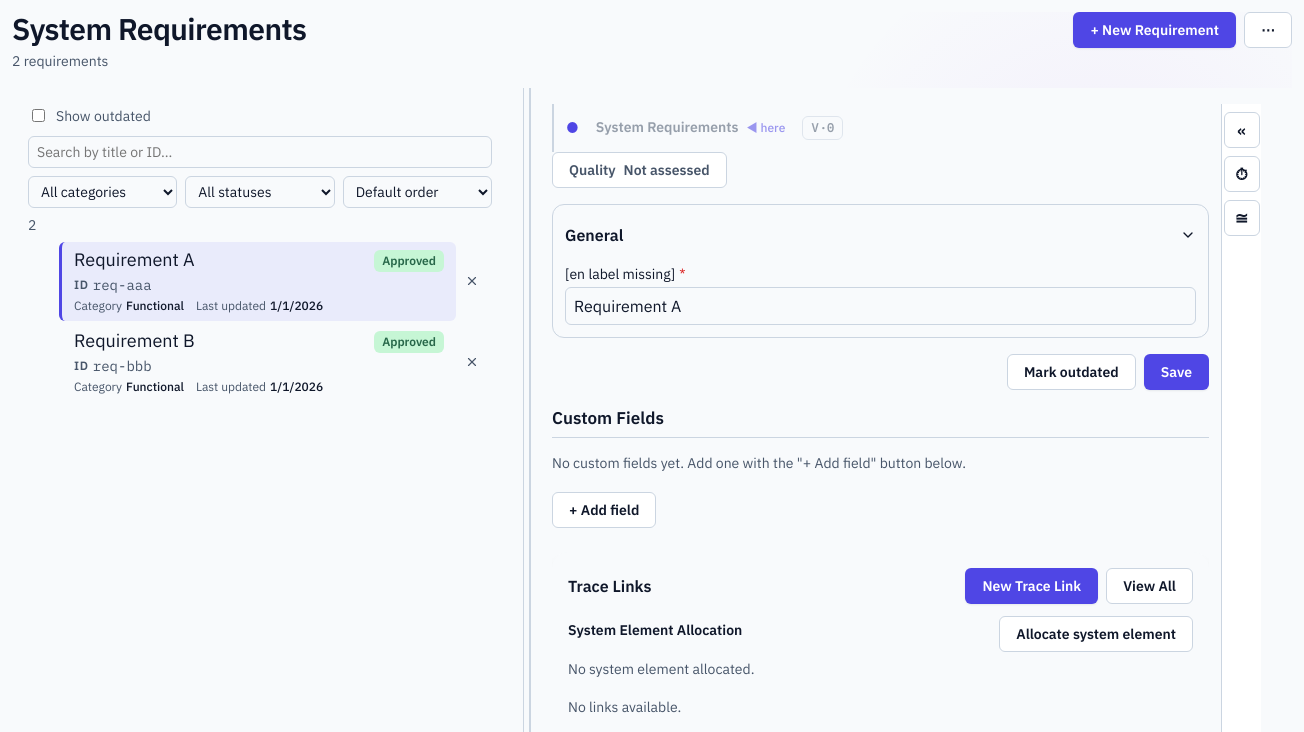
Test: RequirementEditors — unsaved-changes confirmation before tree navigation (#672) › navigates immediately, without any dialog, when the form has no unsaved edits
Expected: the field with test id "artifact-field-title" holds "Requirement A", top-left (565, 287), bottom-right (1196, 325)
Step 1. Click the list item that starts with "Requirement B" → (134, 341), box top-left (28, 322), bottom-right (492, 402)
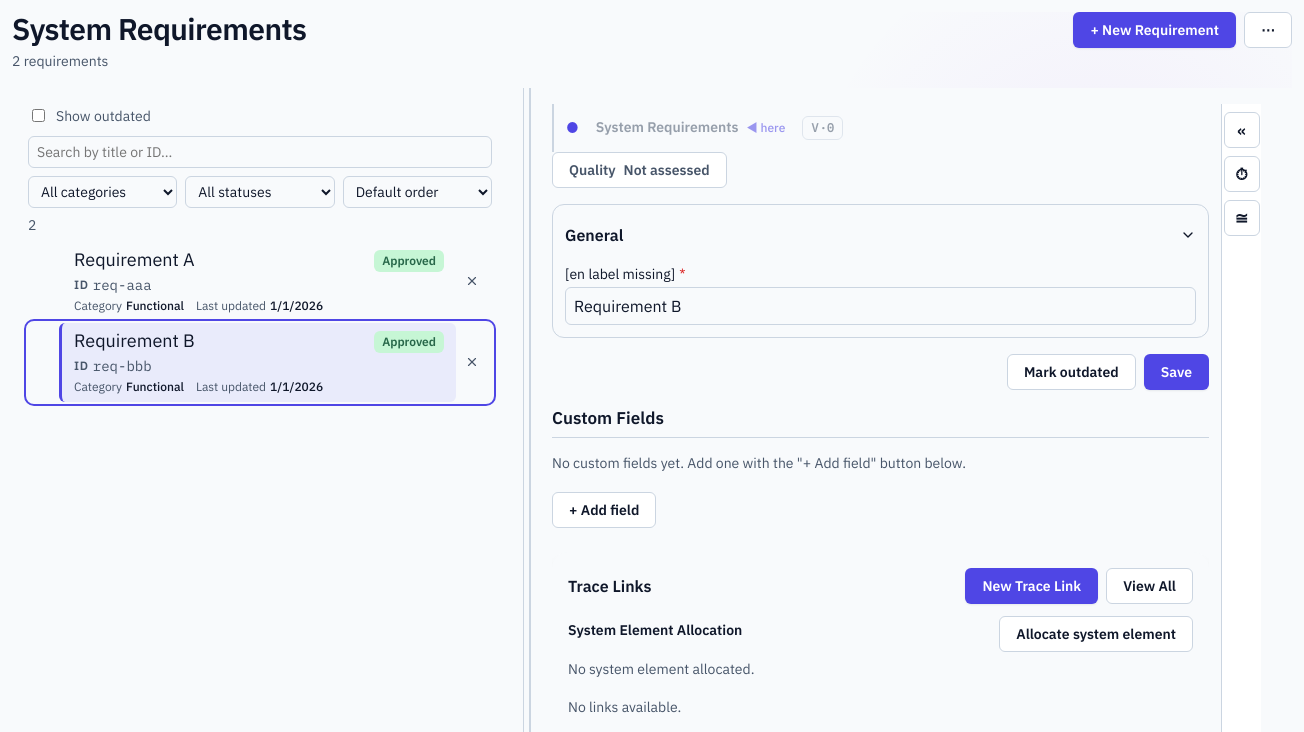
Expected: the field with test id "artifact-field-title" holds "Requirement B", top-left (565, 287), bottom-right (1196, 325)
